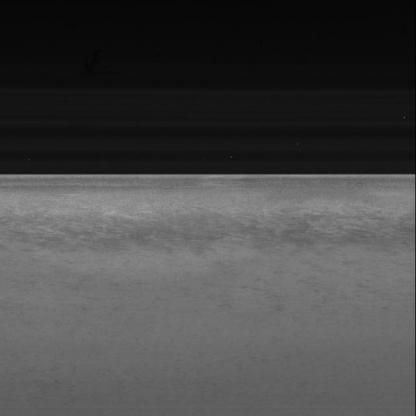silk_spot: (32, 210, 382, 259)
